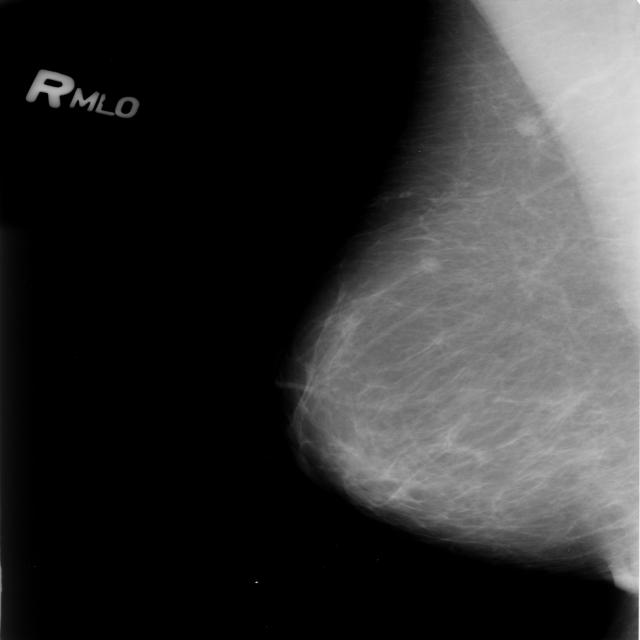normal: (268, 141, 640, 640)
